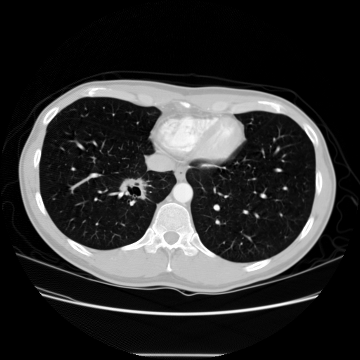nodule: (124, 177, 144, 197)
